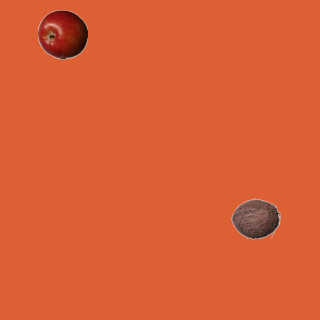Apple Braeburn: (37, 9, 87, 59)
Cocos: (230, 193, 280, 243)
